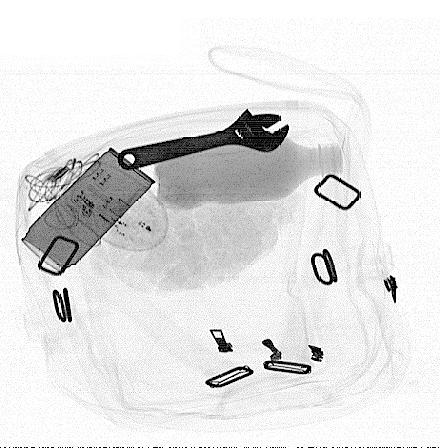Wrench: (116, 108, 291, 171)
